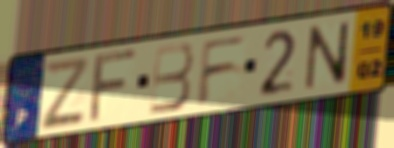2: (259, 28, 299, 99)
B: (147, 40, 196, 117)
F: (86, 46, 142, 126), (195, 32, 250, 109)
N: (303, 19, 351, 93)
Z: (39, 55, 89, 132)
